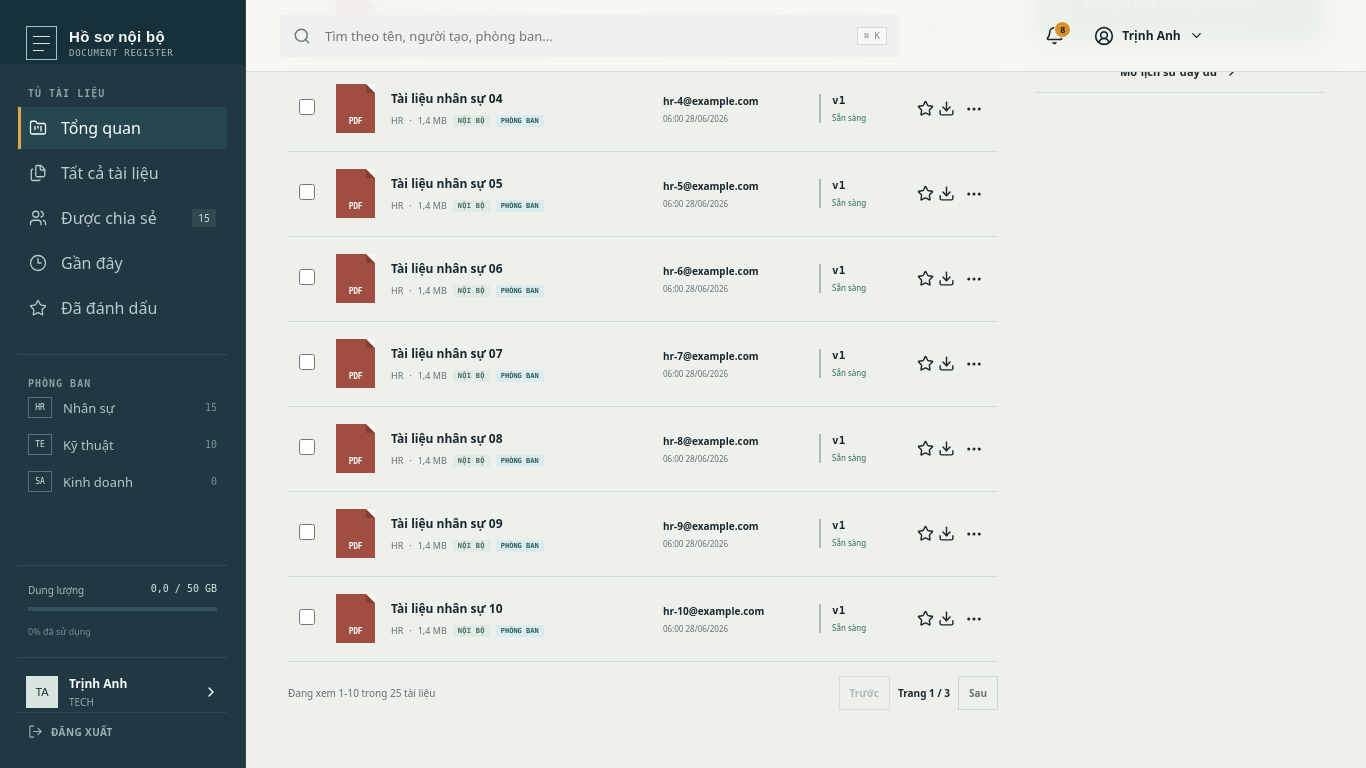
Test case: App › quay về trang đầu khi đổi phòng ban
The image size is (1366, 768).
(page scrolled)
Step 1. Click the button "Sau" → (978,693), box [958,676,998,710]
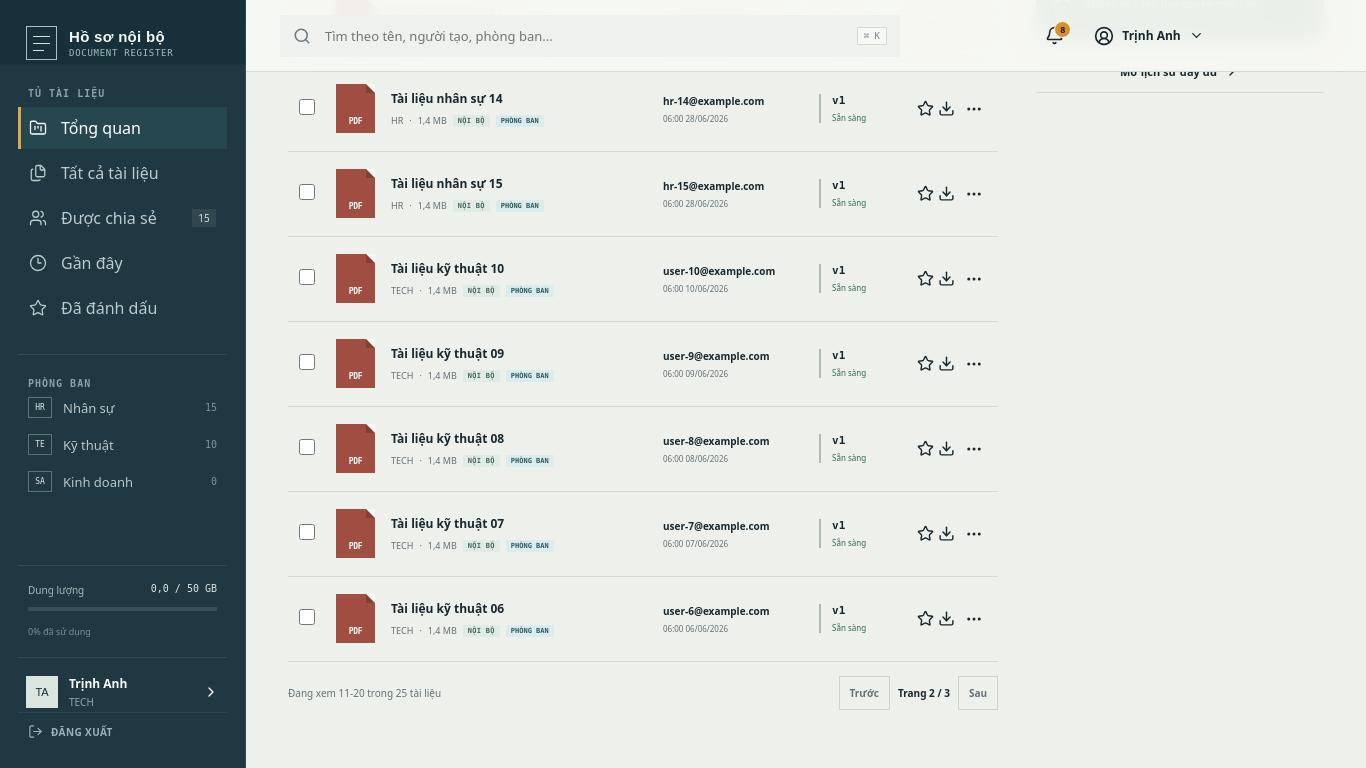
Expected: the text "Trang 2 / 3" is shown, [898,686,950,700]
Step 2. Click the button "HR Nhân sự 15" → (122,407), box [18,389,227,426]
(page scrolled)
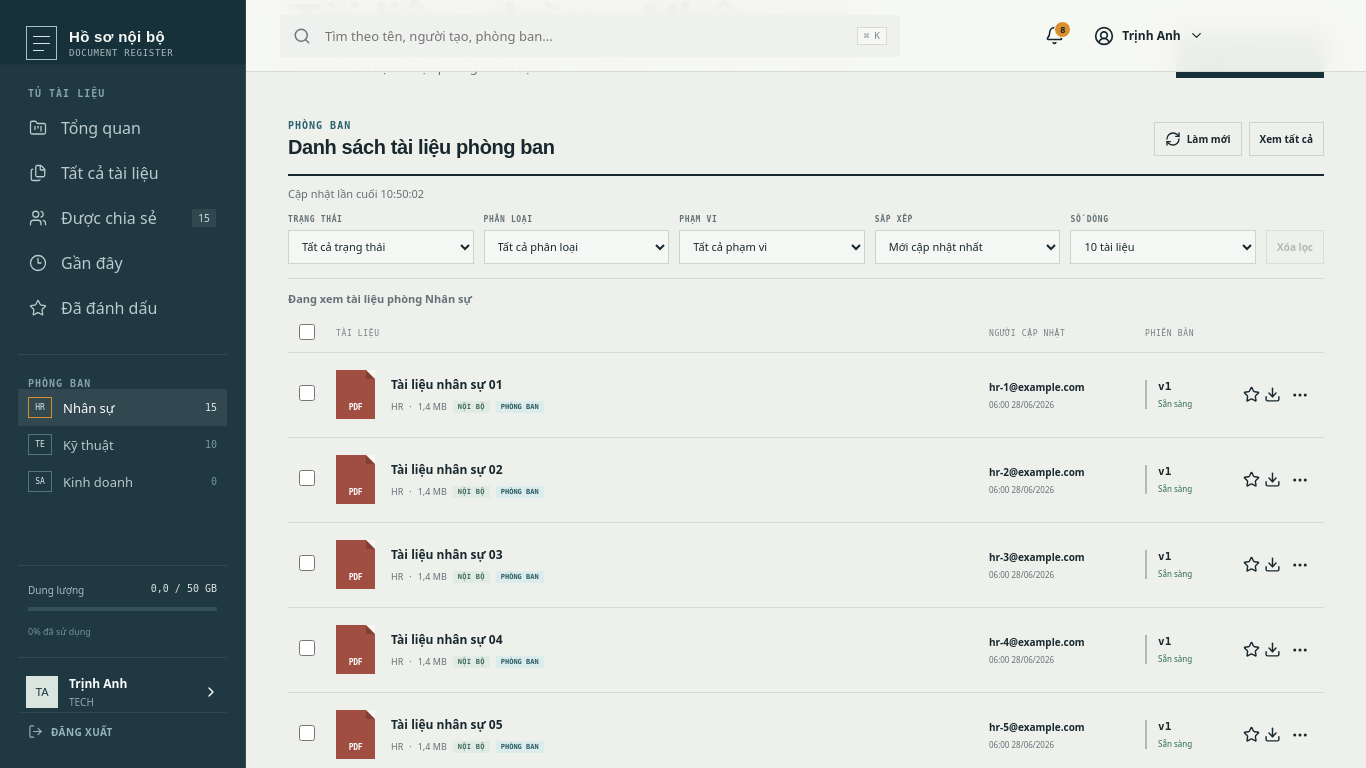
Expected: the button "Tài liệu nhân sự 01" is shown, [391,376,502,393]
